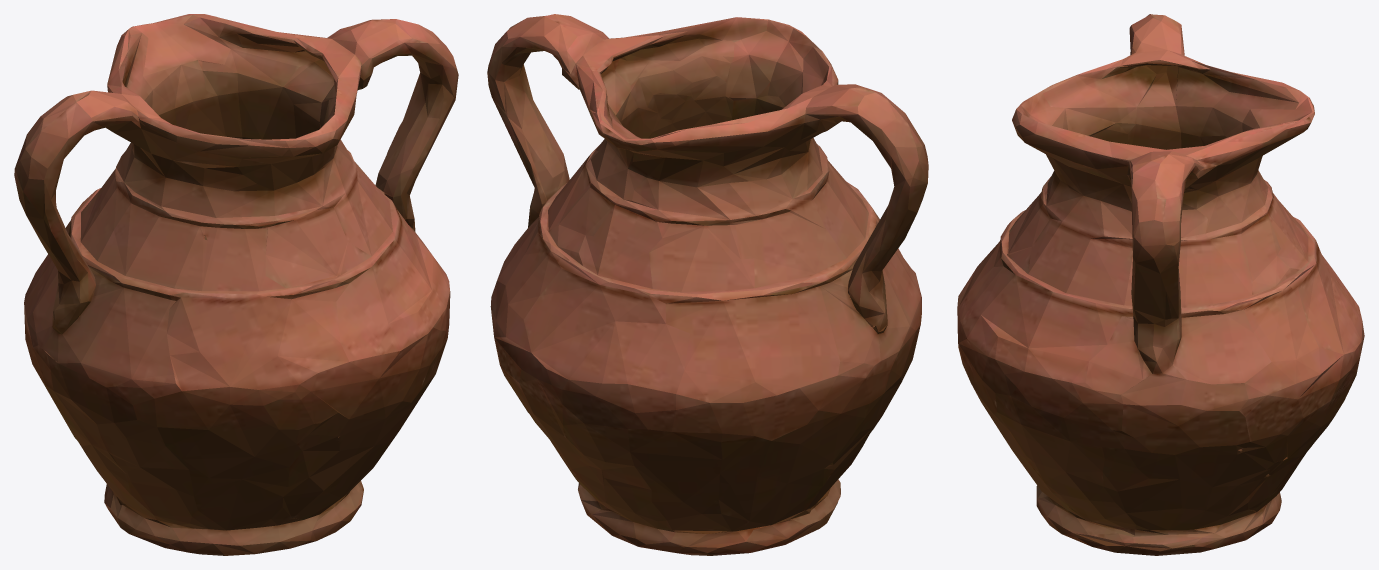
The model's file is prop_water_jug_01.glb.
3 renders of one model, left to right at view 1: azimuth 30°, elevation 25°; view 2: azimuth 150°, elevation 25°; view 3: azimuth 270°, elevation 25°, orthographic. The views are drawn at different scales.
Visible parts, largest first — view 1: geometry_0; view 2: geometry_0; view 3: geometry_0.
Part boxes in pixels (<box>): geometry_0: <box>14,14,458,555</box>; geometry_0: <box>487,14,928,555</box>; geometry_0: <box>957,14,1364,555</box>.
Size of the model in its own units: 0.9971 by 0.9902 by 0.8643.
Materials: 1 (1 with a texture image).
